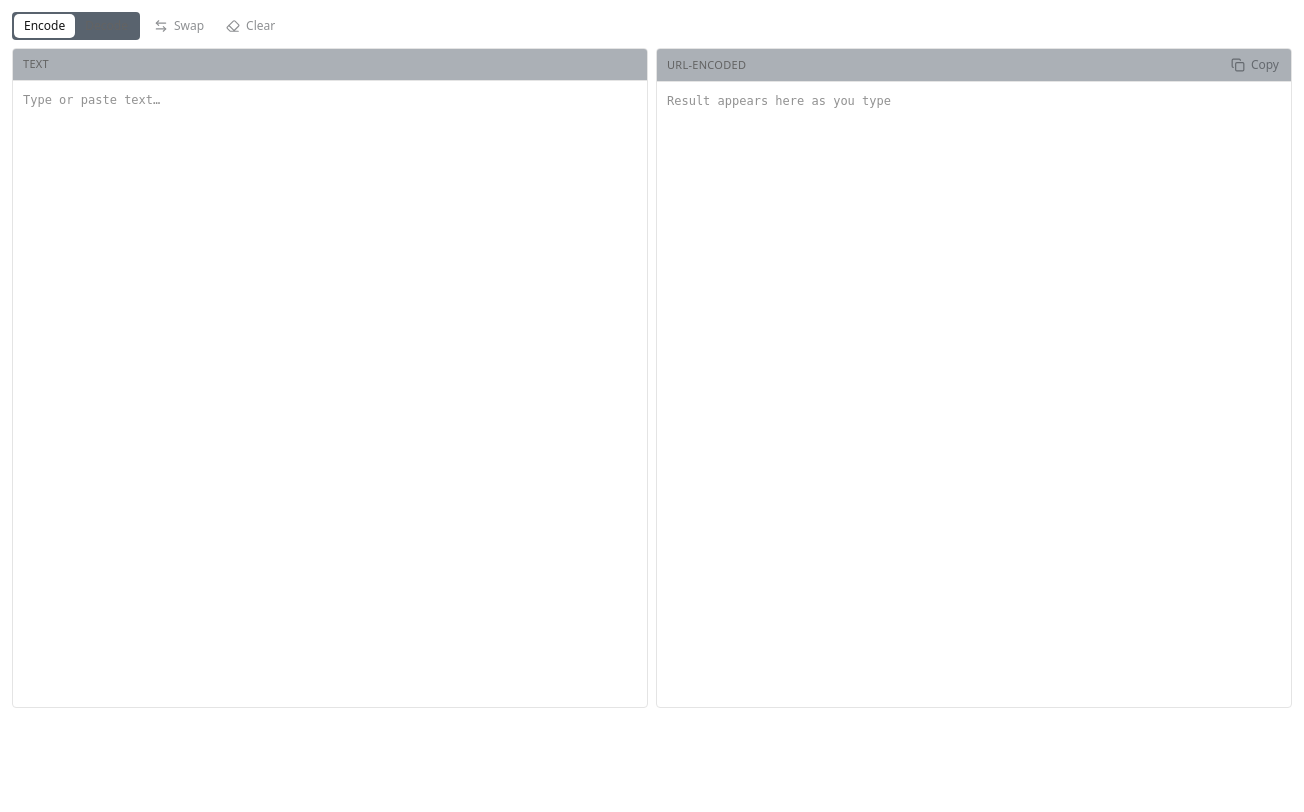
URL › swaps output into input and flips mode
In the text box named "Text to encode": x=330, y=394 [13, 81, 647, 707], type "a b"
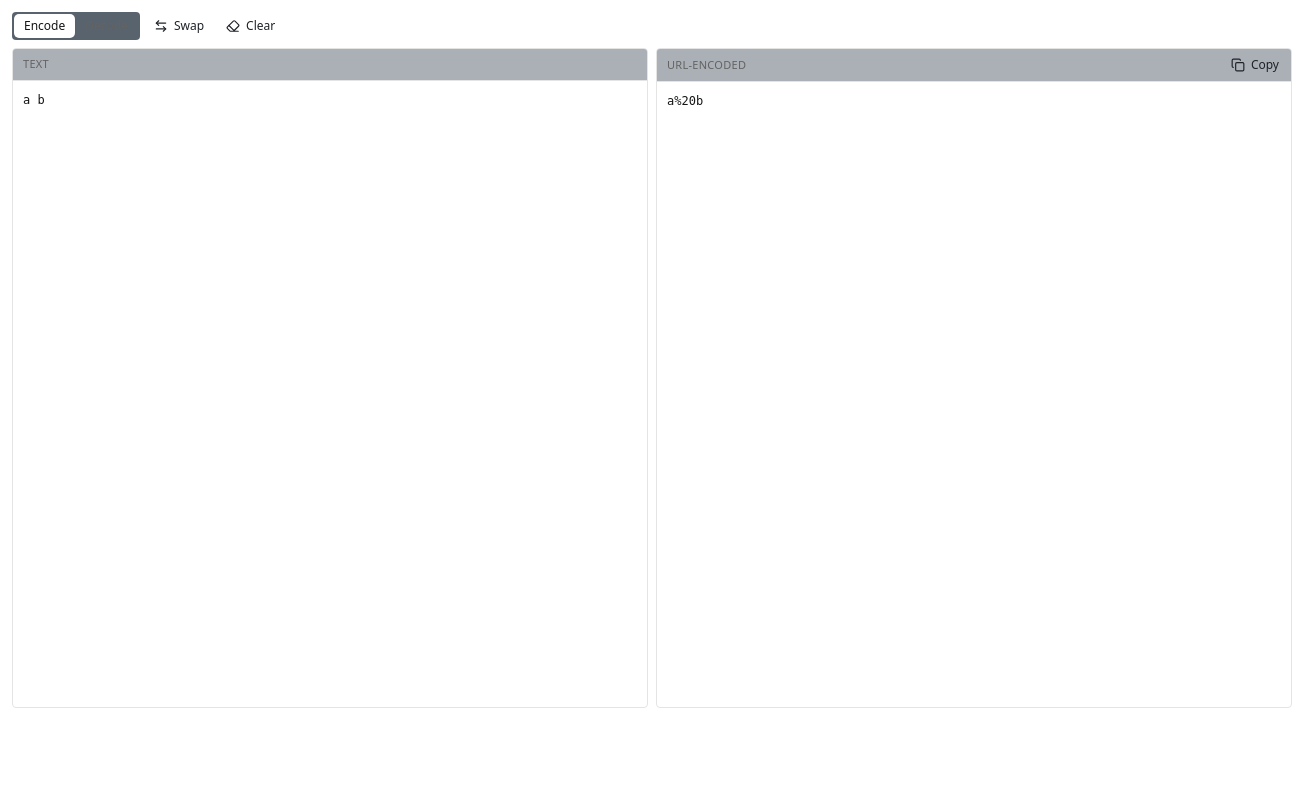
Click the button "Swap": x=179, y=26 [146, 12, 212, 40]
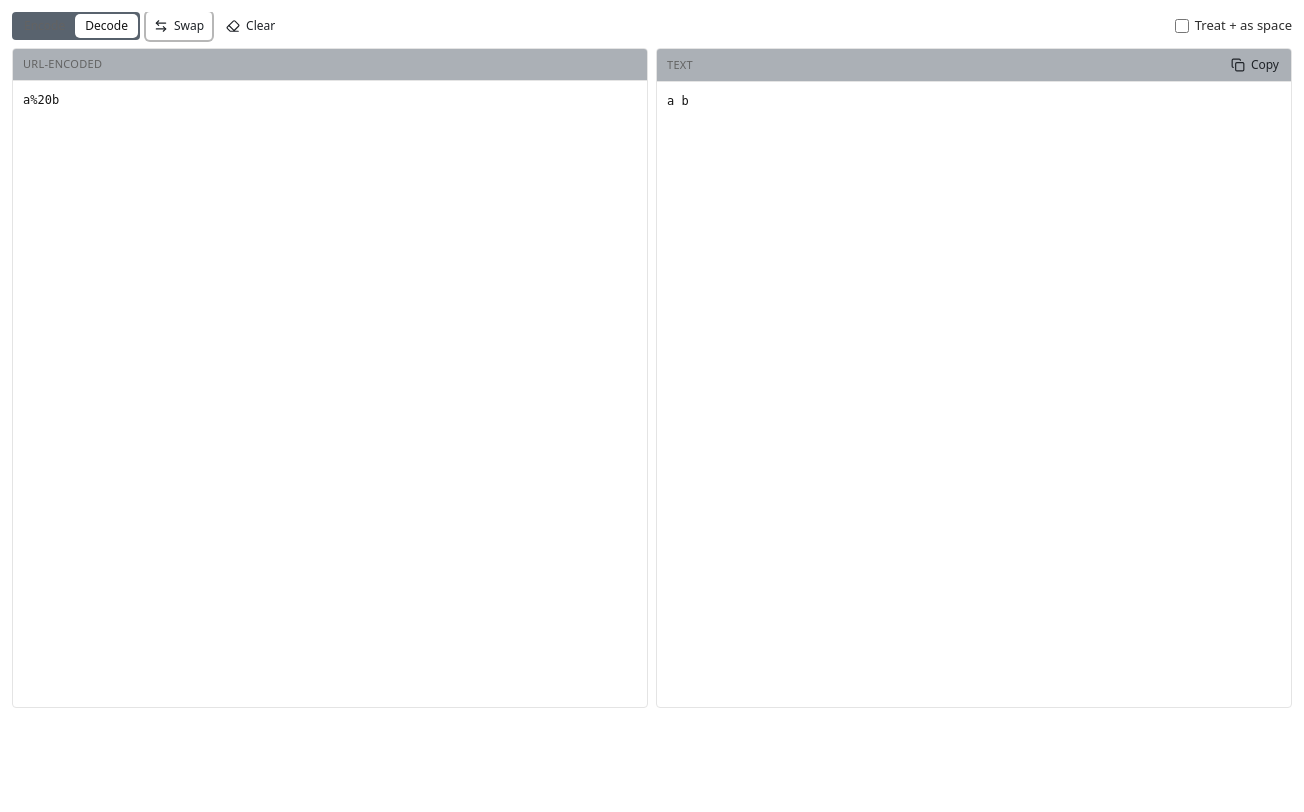
Expected: the text box named "to decode" holds "a%20b", [13, 81, 647, 707]
Expected: the text box named "Result" holds "a b", [657, 82, 1291, 707]
